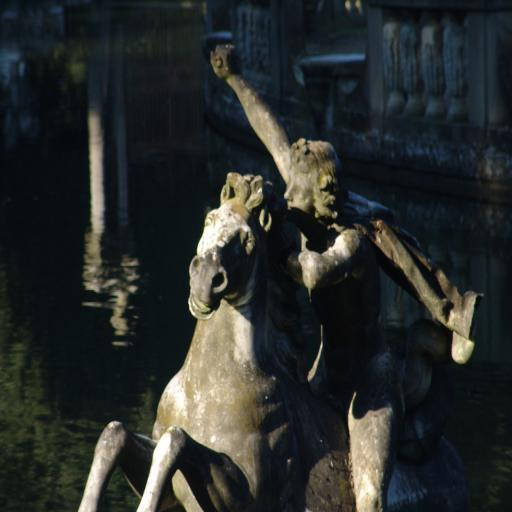horse: (77, 172, 448, 512)
